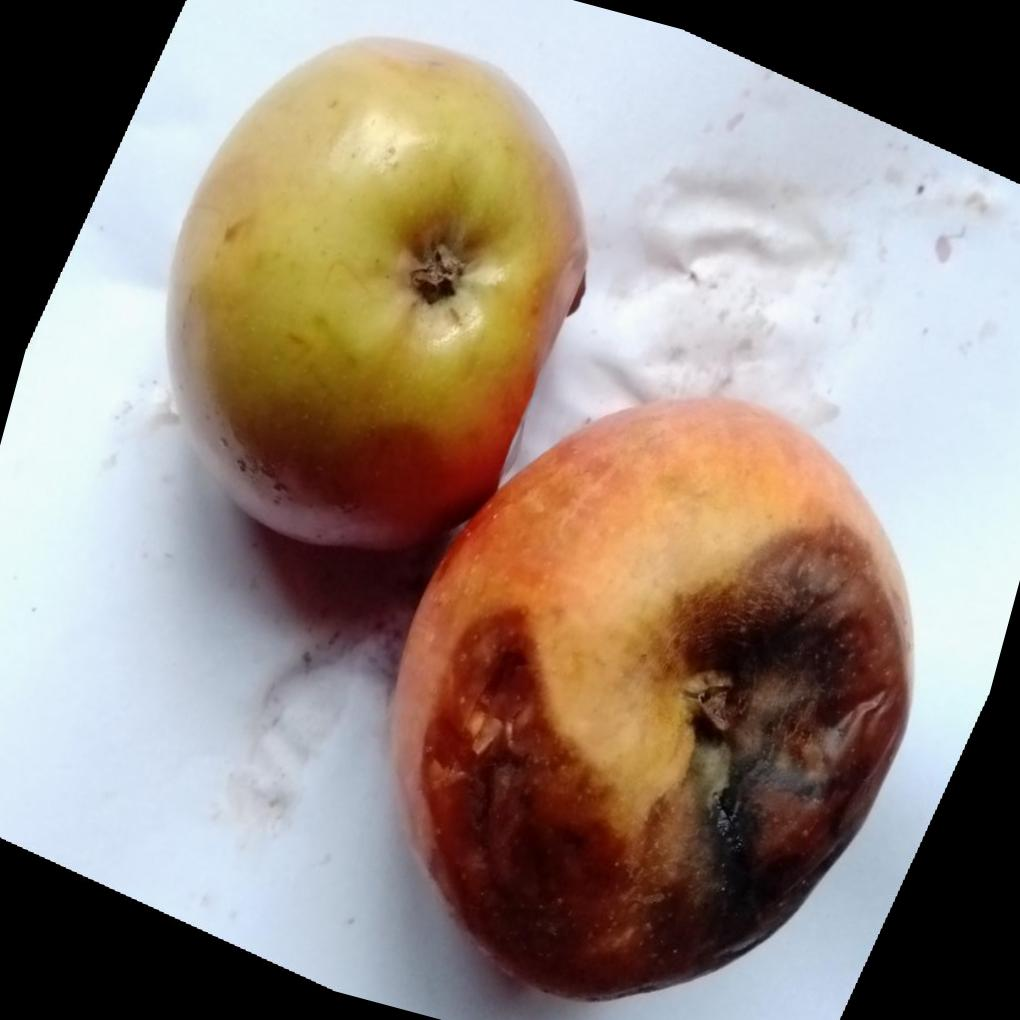FreshOrange: (165, 34, 919, 1006)
